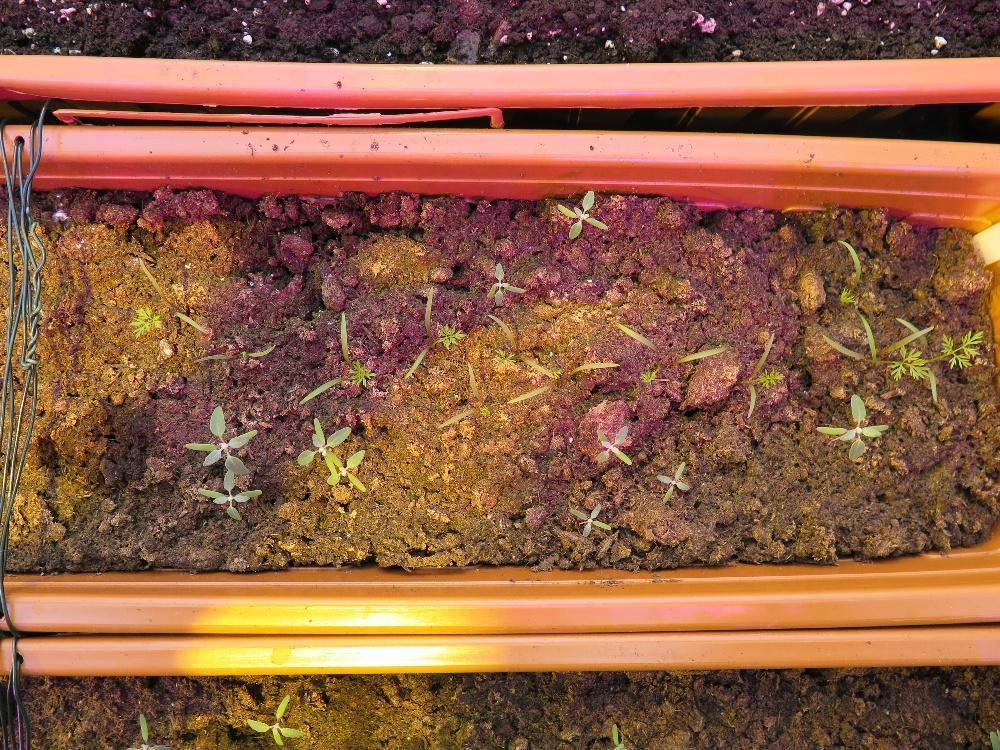weed: (815, 391, 890, 461), (243, 689, 306, 746), (555, 187, 611, 238), (484, 261, 527, 305), (654, 458, 689, 504), (593, 424, 631, 465), (568, 501, 611, 537)
